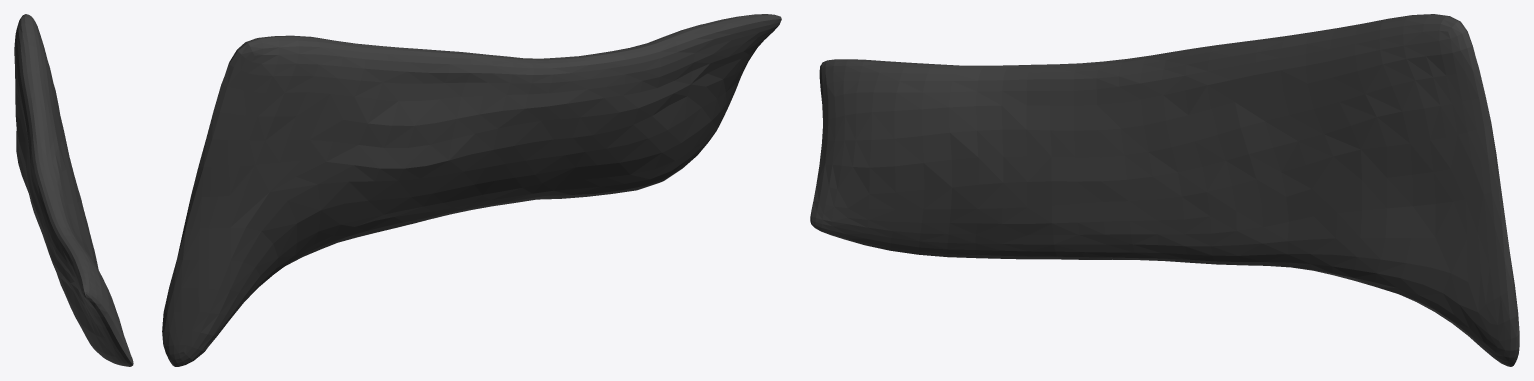
Rendered from m_vocalis_LO_R.glb.
3 renders of one model, left to right at view 1: azimuth 30°, elevation 25°; view 2: azimuth 150°, elevation 25°; view 3: azimuth 270°, elevation 25°, orthographic. The views are drawn at different scales.
Visible parts, largest first — view 1: m_vocalis_LO_R; view 2: m_vocalis_LO_R; view 3: m_vocalis_LO_R.
Part boxes in pixels (bbox=[...]): m_vocalis_LO_R: bbox=[14, 14, 133, 366]; m_vocalis_LO_R: bbox=[162, 14, 781, 366]; m_vocalis_LO_R: bbox=[810, 14, 1519, 366].
Bounding box in the file's own units: 0.0908 × 0.0987 × 0.1958.
Materials: 1 (1 with a texture image).
